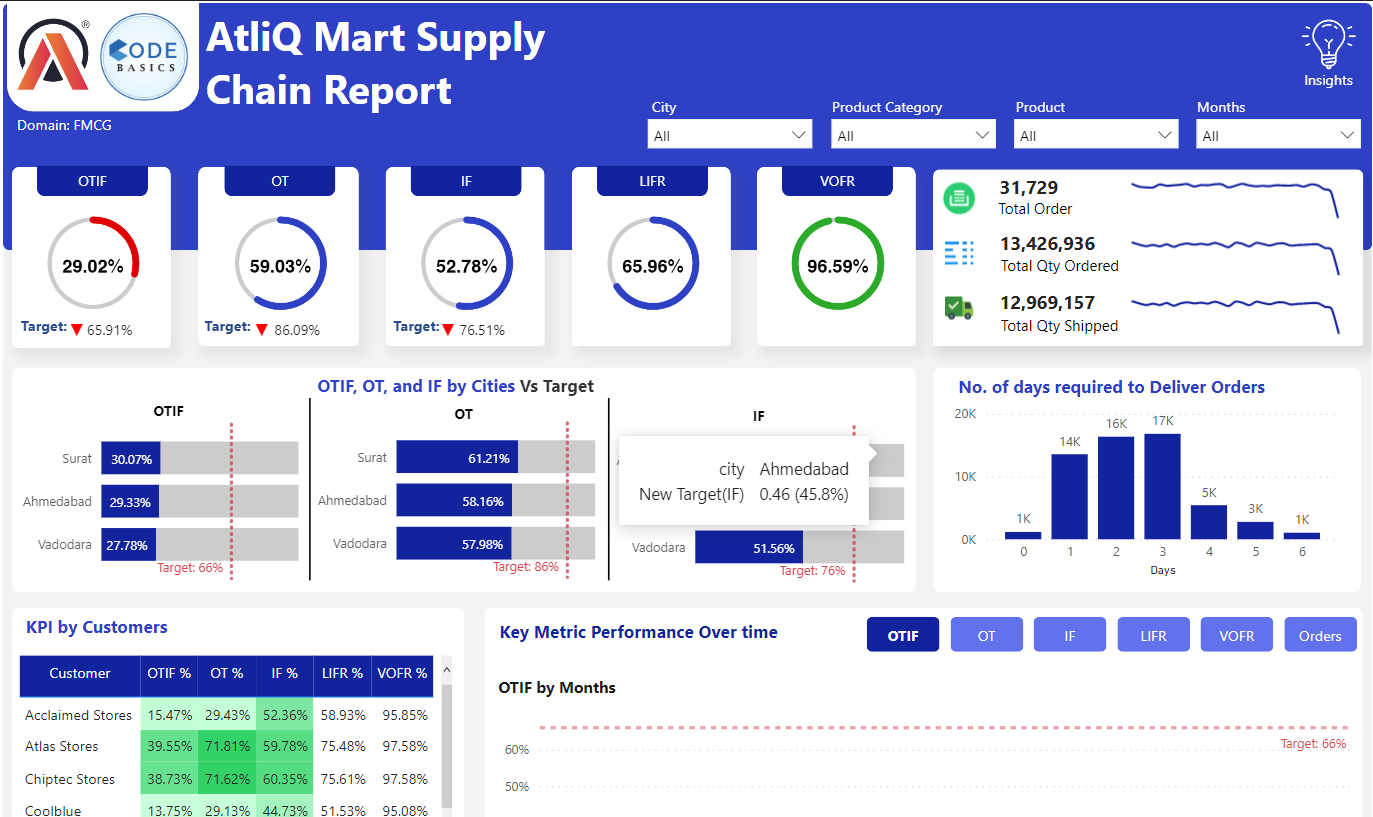

This screenshot's page, from the dashboard's own definition file:
{"tool":"powerbi","page":{"name":"Home","canvas":[1280,1728],"ordinal":0},"visuals":[{"type":"shape","box":[0,0,1280,231.4],"z":0},{"type":"group","id":"g1","title":"Group 8","box":[869.1,152.5,402,169.4],"z":0,"group":"g14"},{"type":"shape","box":[8.7,153.3,149.1,169.4],"z":0,"group":"g7"},{"type":"shape","box":[182.5,153.3,150.3,168.2],"z":0,"group":"g5"},{"type":"shape","box":[357.4,153.3,149.1,168.2],"z":0,"group":"g8"},{"type":"shape","box":[531.2,153.3,149.1,168.2],"z":0,"group":"g15"},{"type":"shape","box":[705,153.3,149.1,168.2],"z":0,"group":"g16"},{"type":"group","id":"g2","title":"Group 7","box":[869.1,156.1,402,165.8],"z":0,"group":"g1"},{"type":"shape","box":[869.1,156.1,402,165.8],"z":0,"group":"g2"},{"type":"multiRowCard","fields":{"Values":["Measures Table.Total Orders"]},"box":[925.8,156.4,174.7,34.6],"z":0,"group":"g3"},{"type":"multiRowCard","fields":{"Values":["Measures Table.Total Qty Ordered"]},"box":[925.9,209.1,184,35.8],"z":0,"group":"g4"},{"type":"multiRowCard","fields":{"Values":["Measures Table.Total Qty Shipped"]},"box":[925.9,263.1,188.6,40.6],"z":0,"group":"g6"},{"type":"card","fields":{"Values":["Measures Table.OTIF-Icon"]},"box":[50.3,283.7,37.9,47.7],"z":0,"group":"g11"},{"type":"card","fields":{"Values":["Measures Table.OT-Icon"]},"box":[223.3,283.7,37.9,47.7],"z":0,"group":"g12"},{"type":"card","fields":{"Values":["Measures Table.IF-Icon"]},"box":[397.4,283.7,37.9,47.7],"z":0,"group":"g13"},{"type":"hundredPercentStackedBarChart","fields":{"Y":["Measures Table.On Time In Full %(OTIF)","Measures Table.New Target(OTIF)"],"Category":["dim_customers.city"]},"box":[8.3,380.9,273.2,163.4],"z":0,"group":"g9"},{"type":"lineChart","fields":{"Y":["Measures Table.On Time In Full %(OTIF)"],"Category":["dim_date.date.Variation.Date Hierarchy.Month","dim_date.week_no","dim_date.date.Variation.Date Hierarchy.Day"]},"box":[464,663.4,801.7,228.6],"z":0,"group":"g10"},{"type":"shape","box":[885.1,919.8,384.1,242.2],"z":0,"group":"g17"},{"type":"shape","box":[885.1,1177.4,384.1,242.2],"z":0,"group":"g18"},{"type":"shape","box":[3.6,1438.7,602.4,244.5],"z":0,"group":"g19"},{"type":"shape","box":[32.3,152.4,103.7,28.9],"z":1000,"group":"g7"},{"type":"shape","box":[207.6,152.4,103.7,28.9],"z":1000,"group":"g5"},{"type":"shape","box":[380.9,152.4,103.7,28.9],"z":1000,"group":"g8"},{"type":"shape","box":[554.7,152.4,103.7,28.9],"z":1000,"group":"g15"},{"type":"shape","box":[728.5,152.4,103.7,28.9],"z":1000,"group":"g16"},{"type":"PBI_CV_25997FEB_F466_44FA_B562_AC4063283C4C","fields":{"measure":["Measures Table.Total Orders"],"axis":["dim_date.date.Variation.Date Hierarchy.Day"]},"box":[1037.3,152.5,232.6,59.6],"z":1000,"group":"g1"},{"type":"group","id":"g3","title":"Group 5","box":[925.1,156.4,175.4,56],"z":1000,"group":"g2"},{"type":"image","box":[870.6,162.9,46.5,40.6],"z":1000,"group":"g14"},{"type":"textbox","box":[925.1,179,160.8,33.4],"z":1000,"group":"g3"},{"type":"textbox","box":[927.4,231.8,182.5,34.6],"z":1000,"group":"g4"},{"type":"textbox","box":[927.4,287,188.6,29.8],"z":1000,"group":"g6"},{"type":"multiRowCard","fields":{"Values":["Measures Table.OnTimeInFull(OTIF)Target_AVG"]},"box":[74.2,290.9,95.4,42.9],"z":1000,"group":"g11"},{"type":"multiRowCard","fields":{"Values":["Measures Table.On Time Delivery Target_AVG"]},"box":[249.5,290.9,95.4,42.9],"z":1000,"group":"g12"},{"type":"multiRowCard","fields":{"Values":["Measures Table.In Full Delivery Target_AVG"]},"box":[422.5,290.9,95.4,42.9],"z":1000,"group":"g13"},{"type":"textbox","box":[93,367.3,125.3,33.4],"z":1000,"group":"g9"},{"type":"textbox","title":"OTIF Txt","box":[458.1,623.6,354.3,47.6],"z":1000,"group":"g10"},{"type":"shape","box":[8.4,917.4,852.9,502.2],"z":1000},{"type":"donutChart","fields":{"Y":["Measures Table.Total Qty Shipped"],"Category":["dim_products.category"]},"box":[891.1,944.8,373.4,210],"z":1000,"group":"g17"},{"type":"clusteredBarChart","fields":{"Category":["fact_order_lines.City required >3equal days to deliver a order"],"Y":["CountNonNull(fact_order_lines.City required >3equal days to deliver a order)"]},"box":[885.1,1214.4,377,205.2],"z":1000,"group":"g18"},{"type":"lineChart","fields":{"Category":["dim_date.date.Variation.Date Hierarchy.Month"],"Y":["Measures Table.Total Qty Ordered","Measures Table.Total Qty Shipped"]},"box":[12,1473.3,595.3,200.4],"z":1000,"group":"g19"},{"type":"textbox","box":[42.6,152.4,83.2,33.8],"z":2000,"group":"g7"},{"type":"textbox","box":[217.8,152.4,83.2,33.8],"z":2000,"group":"g5"},{"type":"textbox","box":[391.2,152.4,83.2,33.8],"z":2000,"group":"g8"},{"type":"textbox","box":[565,152.4,83.2,33.8],"z":2000,"group":"g15"},{"type":"textbox","box":[738.8,152.4,83.2,33.8],"z":2000,"group":"g16"},{"type":"PBI_CV_25997FEB_F466_44FA_B562_AC4063283C4C","fields":{"measure":["Measures Table.Total Qty Ordered"],"axis":["dim_date.date.Variation.Date Hierarchy.Day"]},"box":[1037.7,206.9,233,57.9],"z":2000,"group":"g1"},{"type":"group","id":"g4","title":"Group 5","box":[925.9,209.1,184,57.3],"z":2000,"group":"g2"},{"type":"image","box":[870.6,214.2,46.5,40.6],"z":2000,"group":"g14"},{"type":"shape","box":[869.6,340.9,399.6,210],"z":2000},{"type":"hundredPercentStackedBarChart","fields":{"Category":["dim_customers.city"],"Y":["Measures Table.On Time Delivery(OT%)","Measures Table.New Terget(OT)"]},"box":[283.9,380.4,274.4,163.4],"z":2000,"group":"g9"},{"type":"textbox","box":[891.1,917.4,373.4,34.6],"z":2000,"group":"g17"},{"type":"textbox","box":[893.5,1173.8,361.5,56.1],"z":2000,"group":"g18"},{"type":"textbox","box":[10.8,1440.1,373.4,34.6],"z":2000,"group":"g19"},{"type":"group","id":"g5","title":"Group 1","box":[182.5,152.4,150.3,169.4],"z":3000},{"type":"payPalKPIDonutChart55A431AB15A540ED924ACD72ED8D259F","fields":{"myvalue":["Measures Table.On Time In Full %(OTIF)"]},"box":[29.3,182.6,109.7,121.8],"z":3000,"group":"g7"},{"type":"payPalKPIDonutChart55A431AB15A540ED924ACD72ED8D259F","fields":{"myvalue":["Measures Table.On Time Delivery(OT%)"]},"box":[204.6,182.6,109.7,121.8],"z":3000,"group":"g5"},{"type":"payPalKPIDonutChart55A431AB15A540ED924ACD72ED8D259F","fields":{"myvalue":["Measures Table.In Full Delivery %(IF%)"]},"box":[377.9,182.6,109.7,121.8],"z":3000,"group":"g8"},{"type":"payPalKPIDonutChart55A431AB15A540ED924ACD72ED8D259F","fields":{"myvalue":["Measures Table.Line Fill Rate(LIFR%)"]},"box":[551.7,182.6,109.7,121.8],"z":3000,"group":"g15"},{"type":"payPalKPIDonutChart55A431AB15A540ED924ACD72ED8D259F","fields":{"myvalue":["Measures Table.Volume Fill Rate(VOFR %)"]},"box":[725.5,182.6,109.7,121.8],"z":3000,"group":"g16"},{"type":"PBI_CV_25997FEB_F466_44FA_B562_AC4063283C4C","fields":{"measure":["Measures Table.Total Qty Shipped"],"axis":["dim_date.date.Variation.Date Hierarchy.Day"]},"box":[1037.7,262.4,233,57.9],"z":3000,"group":"g1"},{"type":"group","id":"g6","title":"Group 5","box":[925.9,263.1,190.2,53.7],"z":3000,"group":"g2"},{"type":"image","box":[870.6,265.5,46.5,40.6],"z":3000,"group":"g14"},{"type":"textbox","box":[368.6,369.7,125.3,33.4],"z":3000,"group":"g9"},{"type":"group","id":"g7","title":"Group 1","box":[8.7,152.4,149.1,173],"z":4000},{"type":"textbox","box":[12.3,288.4,124.1,37],"z":4000,"group":"g7"},{"type":"textbox","box":[183.7,288.4,122.9,33.4],"z":4000,"group":"g5"},{"type":"textbox","box":[359.8,288.4,124.1,33.4],"z":4000,"group":"g8"},{"type":"hundredPercentStackedBarChart","fields":{"Category":["dim_customers.city"],"Y":["Measures Table.In Full Delivery %(IF%)","Measures Table.New Target(IF)"]},"box":[563.8,383.2,283.9,163.4],"z":4000,"group":"g9"},{"type":"group","id":"g8","title":"Group 1","box":[357.4,152.4,149.1,169.4],"z":5000},{"type":"textbox","box":[644.1,372.1,125.3,33.4],"z":5000,"group":"g9"},{"type":"shape","box":[8.4,340.9,845.8,210],"z":6000},{"type":"textbox","box":[16.7,340.9,813.6,39.4],"z":7000},{"type":"group","id":"g9","title":"Group 3","box":[8.3,367.3,839.4,179.4],"z":8000},{"type":"shape","box":[8.4,565.2,423,335.2],"z":9000},{"type":"tableEx","fields":{"Values":["dim_customers.customer_name","Measures Table.On Time In Full %(OTIF)","Measures Table.On Time Delivery(OT%)","Measures Table.In Full Delivery %(IF%)","Measures Table.Line Fill Rate(LIFR%)","Measures Table.Volume Fill Rate(VOFR %)"]},"box":[9.5,605.7,415.1,288.7],"z":10000},{"type":"textbox","box":[887.5,342.3,349.5,47.7],"z":11000},{"type":"textbox","box":[16.7,566.4,349.5,39.4],"z":12000},{"type":"shape","box":[449.7,565.2,821.9,335.2],"z":13000},{"type":"group","id":"g10","title":"OTIF","box":[458.1,623.6,807.6,268.4],"z":14000},{"type":"textbox","box":[459.3,571.2,348.3,42.9],"z":20000},{"type":"bookmarkNavigator","box":[807.6,573.5,458.1,33.4],"z":21000},{"type":"group","id":"g11","title":"Group 1","box":[50.3,283.7,119.3,50.1],"z":22000},{"type":"group","id":"g12","title":"Group 1","box":[223.3,283.7,121.7,50.1],"z":23000},{"type":"group","id":"g13","title":"Group 1","box":[397.4,283.7,120.5,50.1],"z":24000},{"type":"clusteredColumnChart","fields":{"Category":["fact_order_lines.Days required to deliver a product"],"Y":["CountNonNull(fact_order_lines.order_id)"]},"box":[885.1,366,369.8,175.4],"z":25000},{"type":"tableEx","fields":{"Values":["dim_products.category","dim_products.product_name","Measures Table.Line Fill Rate(LIFR%)","Measures Table.Volume Fill Rate(VOFR %)","SparklineData(Measures Table.Line Fill Rate(LIFR%)_[dim_date.date.Variation.Date Hierarchy.Month])","SparklineData(Measures Table.Volume Fill Rate(VOFR %)_[dim_date.date.Variation.Date Hierarchy.Month])","Measures Table.Total Qty Ordered","Measures Table.Total Qty Shipped","Measures Table.Order_Shipped_Difference","Measures Table.Avg Days required to deliver a product"]},"box":[11.9,960.3,842.2,449.7],"z":26000},{"type":"textbox","box":[16.7,924.3,349.5,39.4],"z":27000},{"type":"textbox","box":[184.9,0,409.2,115.7],"z":28000},{"type":"shape","box":[3.6,0,180.1,101.4],"z":29000},{"type":"image","box":[7.2,8.4,81.1,78.7],"z":30000},{"type":"image","box":[83.5,0,97.8,101.4],"z":31000},{"type":"textbox","box":[8.4,99,294.7,35.8],"z":32000},{"type":"group","id":"g14","title":"Group 2","box":[869.1,152.5,402,169.4],"z":33000},{"type":"group","id":"g15","title":"Group 1","box":[531.2,152.4,149.1,169.1],"z":34000},{"type":"group","id":"g16","title":"Group 1","box":[705,152.4,149.1,169.1],"z":35000},{"type":"shape","box":[279.1,369.8,15.5,170.6],"z":36000},{"type":"shape","box":[554.7,369.8,22.7,170.6],"z":37000},{"type":"slicer","fields":{"Values":["Date Table.Month"]},"box":[1105.8,97.6,174.2,41.8],"z":38000},{"type":"slicer","fields":{"Values":["dim_products.product_name"]},"box":[934.8,97.6,174.2,41.8],"z":39000},{"type":"slicer","fields":{"Values":["dim_products.category"]},"box":[763.9,97.6,174.2,41.8],"z":40000},{"type":"slicer","fields":{"Values":["dim_customers.city"]},"box":[592.9,97.6,174.2,41.8],"z":41000},{"type":"textbox","box":[601.2,82.5,162.2,35.8],"z":42000},{"type":"textbox","box":[770.6,82.5,162.2,35.8],"z":43000},{"type":"textbox","box":[942.4,82.5,162.2,35.8],"z":44000},{"type":"textbox","box":[1111.8,82.5,162.2,35.8],"z":45000},{"type":"group","id":"g17","title":"Group 4","box":[885.1,917.4,384.1,244.5],"z":46000},{"type":"group","id":"g18","title":"Group 6","box":[885.1,1173.8,384.1,245.7],"z":47000},{"type":"shape","box":[618.9,1439.9,310.2,243.4],"z":48000},{"type":"shape","box":[942.4,1438.7,326.9,243.4],"z":49000},{"type":"clusteredBarChart","fields":{"Category":["dim_customers.city"],"Y":["Measures Table.Total Qty Ordered","Measures Table.Total Qty Shipped"]},"box":[943.6,1474.4,323.3,211.1],"z":50000},{"type":"textbox","box":[623.7,1439.9,194.4,34.6],"z":51000},{"type":"clusteredColumnChart","fields":{"Category":["dim_customers.city"],"Y":["Measures Table.Total Orders"]},"box":[623.7,1457.7,305.4,224.3],"z":52000},{"type":"textbox","box":[946,1438.7,281.5,34.6],"z":53000},{"type":"group","id":"g19","title":"Qty by Months","box":[3.6,1438.7,603.6,244.5],"z":54000},{"type":"textbox","box":[0,1697,1280,31],"z":55000},{"type":"image","box":[1209.6,3.4,62,69.2],"z":56000},{"type":"textbox","box":[1195.3,57.1,71.6,35.8],"z":57000}]}

Visuals, with their boxes on the page's 1280x1728 design canvas (x1, y1, x2, y2). These are canvas units, not pixel positions in the 1373x817 screenshot, which may show the page scaled, cropped or inside an application window:
shape: x1=0 y1=0 x2=1280 y2=231
"Group 8" group: x1=869 y1=152 x2=1271 y2=322
shape: x1=9 y1=153 x2=158 y2=323
shape: x1=182 y1=153 x2=333 y2=322
shape: x1=357 y1=153 x2=506 y2=322
shape: x1=531 y1=153 x2=680 y2=322
shape: x1=705 y1=153 x2=854 y2=322
"Group 7" group: x1=869 y1=156 x2=1271 y2=322
shape: x1=869 y1=156 x2=1271 y2=322
multiRowCard - Measures Table.Total Orders: x1=926 y1=156 x2=1100 y2=191
multiRowCard - Measures Table.Total Qty Ordered: x1=926 y1=209 x2=1110 y2=245
multiRowCard - Measures Table.Total Qty Shipped: x1=926 y1=263 x2=1114 y2=304
card - Measures Table.OTIF-Icon: x1=50 y1=284 x2=88 y2=331
card - Measures Table.OT-Icon: x1=223 y1=284 x2=261 y2=331
card - Measures Table.IF-Icon: x1=397 y1=284 x2=435 y2=331
hundredPercentStackedBarChart - Measures Table.On Time In Full %(OTIF) x Measures Table.New Target(OTIF): x1=8 y1=381 x2=282 y2=544
lineChart - Measures Table.On Time In Full %(OTIF) x dim_date.date.Variation.Date Hierarchy.Month: x1=464 y1=663 x2=1266 y2=892
shape: x1=885 y1=920 x2=1269 y2=1162
shape: x1=885 y1=1177 x2=1269 y2=1420
shape: x1=4 y1=1439 x2=606 y2=1683
shape: x1=32 y1=152 x2=136 y2=181
shape: x1=208 y1=152 x2=311 y2=181
shape: x1=381 y1=152 x2=485 y2=181
shape: x1=555 y1=152 x2=658 y2=181
shape: x1=728 y1=152 x2=832 y2=181
PBI_CV_25997FEB_F466_44FA_B562_AC4063283C4C - Measures Table.Total Orders x dim_date.date.Variation.Date Hierarchy.Day: x1=1037 y1=152 x2=1270 y2=212
"Group 5" group: x1=925 y1=156 x2=1100 y2=212
image: x1=871 y1=163 x2=917 y2=204
textbox: x1=925 y1=179 x2=1086 y2=212
textbox: x1=927 y1=232 x2=1110 y2=266
textbox: x1=927 y1=287 x2=1116 y2=317
multiRowCard - Measures Table.OnTimeInFull(OTIF)Target_AVG: x1=74 y1=291 x2=170 y2=334
multiRowCard - Measures Table.On Time Delivery Target_AVG: x1=250 y1=291 x2=345 y2=334
multiRowCard - Measures Table.In Full Delivery Target_AVG: x1=422 y1=291 x2=518 y2=334
textbox: x1=93 y1=367 x2=218 y2=401
"OTIF Txt" textbox: x1=458 y1=624 x2=812 y2=671
shape: x1=8 y1=917 x2=861 y2=1420
donutChart - Measures Table.Total Qty Shipped x dim_products.category: x1=891 y1=945 x2=1264 y2=1155
clusteredBarChart - fact_order_lines.City required >3equal days to deliver a order x CountNonNull(fact_order_lines.City required >3equal days to deliver a order): x1=885 y1=1214 x2=1262 y2=1420
lineChart - dim_date.date.Variation.Date Hierarchy.Month x Measures Table.Total Qty Ordered: x1=12 y1=1473 x2=607 y2=1674
textbox: x1=43 y1=152 x2=126 y2=186
textbox: x1=218 y1=152 x2=301 y2=186
textbox: x1=391 y1=152 x2=474 y2=186
textbox: x1=565 y1=152 x2=648 y2=186
textbox: x1=739 y1=152 x2=822 y2=186
PBI_CV_25997FEB_F466_44FA_B562_AC4063283C4C - Measures Table.Total Qty Ordered x dim_date.date.Variation.Date Hierarchy.Day: x1=1038 y1=207 x2=1271 y2=265
"Group 5" group: x1=926 y1=209 x2=1110 y2=266
image: x1=871 y1=214 x2=917 y2=255
shape: x1=870 y1=341 x2=1269 y2=551
hundredPercentStackedBarChart - dim_customers.city x Measures Table.On Time Delivery(OT%): x1=284 y1=380 x2=558 y2=544
textbox: x1=891 y1=917 x2=1264 y2=952
textbox: x1=894 y1=1174 x2=1255 y2=1230
textbox: x1=11 y1=1440 x2=384 y2=1475
"Group 1" group: x1=182 y1=152 x2=333 y2=322
payPalKPIDonutChart55A431AB15A540ED924ACD72ED8D259F - Measures Table.On Time In Full %(OTIF): x1=29 y1=183 x2=139 y2=304
payPalKPIDonutChart55A431AB15A540ED924ACD72ED8D259F - Measures Table.On Time Delivery(OT%): x1=205 y1=183 x2=314 y2=304
payPalKPIDonutChart55A431AB15A540ED924ACD72ED8D259F - Measures Table.In Full Delivery %(IF%): x1=378 y1=183 x2=488 y2=304
payPalKPIDonutChart55A431AB15A540ED924ACD72ED8D259F - Measures Table.Line Fill Rate(LIFR%): x1=552 y1=183 x2=661 y2=304
payPalKPIDonutChart55A431AB15A540ED924ACD72ED8D259F - Measures Table.Volume Fill Rate(VOFR %): x1=726 y1=183 x2=835 y2=304
PBI_CV_25997FEB_F466_44FA_B562_AC4063283C4C - Measures Table.Total Qty Shipped x dim_date.date.Variation.Date Hierarchy.Day: x1=1038 y1=262 x2=1271 y2=320
"Group 5" group: x1=926 y1=263 x2=1116 y2=317
image: x1=871 y1=266 x2=917 y2=306
textbox: x1=369 y1=370 x2=494 y2=403
"Group 1" group: x1=9 y1=152 x2=158 y2=325
textbox: x1=12 y1=288 x2=136 y2=325
textbox: x1=184 y1=288 x2=307 y2=322
textbox: x1=360 y1=288 x2=484 y2=322
hundredPercentStackedBarChart - dim_customers.city x Measures Table.In Full Delivery %(IF%): x1=564 y1=383 x2=848 y2=547
"Group 1" group: x1=357 y1=152 x2=506 y2=322
textbox: x1=644 y1=372 x2=769 y2=406
shape: x1=8 y1=341 x2=854 y2=551
textbox: x1=17 y1=341 x2=830 y2=380
"Group 3" group: x1=8 y1=367 x2=848 y2=547
shape: x1=8 y1=565 x2=431 y2=900
tableEx - dim_customers.customer_name x Measures Table.On Time In Full %(OTIF): x1=10 y1=606 x2=425 y2=894
textbox: x1=888 y1=342 x2=1237 y2=390
textbox: x1=17 y1=566 x2=366 y2=606
shape: x1=450 y1=565 x2=1272 y2=900
"OTIF" group: x1=458 y1=624 x2=1266 y2=892
textbox: x1=459 y1=571 x2=808 y2=614
bookmarkNavigator: x1=808 y1=574 x2=1266 y2=607
"Group 1" group: x1=50 y1=284 x2=170 y2=334
"Group 1" group: x1=223 y1=284 x2=345 y2=334
"Group 1" group: x1=397 y1=284 x2=518 y2=334
clusteredColumnChart - fact_order_lines.Days required to deliver a product x CountNonNull(fact_order_lines.order_id): x1=885 y1=366 x2=1255 y2=541
tableEx - dim_products.category x dim_products.product_name: x1=12 y1=960 x2=854 y2=1410
textbox: x1=17 y1=924 x2=366 y2=964
textbox: x1=185 y1=0 x2=594 y2=116
shape: x1=4 y1=0 x2=184 y2=101
image: x1=7 y1=8 x2=88 y2=87
image: x1=84 y1=0 x2=181 y2=101
textbox: x1=8 y1=99 x2=303 y2=135
"Group 2" group: x1=869 y1=152 x2=1271 y2=322
"Group 1" group: x1=531 y1=152 x2=680 y2=322
"Group 1" group: x1=705 y1=152 x2=854 y2=322
shape: x1=279 y1=370 x2=295 y2=540
shape: x1=555 y1=370 x2=577 y2=540
slicer - Date Table.Month: x1=1106 y1=98 x2=1280 y2=139
slicer - dim_products.product_name: x1=935 y1=98 x2=1109 y2=139
slicer - dim_products.category: x1=764 y1=98 x2=938 y2=139
slicer - dim_customers.city: x1=593 y1=98 x2=767 y2=139
textbox: x1=601 y1=82 x2=763 y2=118
textbox: x1=771 y1=82 x2=933 y2=118
textbox: x1=942 y1=82 x2=1105 y2=118
textbox: x1=1112 y1=82 x2=1274 y2=118
"Group 4" group: x1=885 y1=917 x2=1269 y2=1162
"Group 6" group: x1=885 y1=1174 x2=1269 y2=1420
shape: x1=619 y1=1440 x2=929 y2=1683
shape: x1=942 y1=1439 x2=1269 y2=1682
clusteredBarChart - dim_customers.city x Measures Table.Total Qty Ordered: x1=944 y1=1474 x2=1267 y2=1686
textbox: x1=624 y1=1440 x2=818 y2=1474
clusteredColumnChart - dim_customers.city x Measures Table.Total Orders: x1=624 y1=1458 x2=929 y2=1682
textbox: x1=946 y1=1439 x2=1228 y2=1473
"Qty by Months" group: x1=4 y1=1439 x2=607 y2=1683
textbox: x1=0 y1=1697 x2=1280 y2=1728
image: x1=1210 y1=3 x2=1272 y2=73
textbox: x1=1195 y1=57 x2=1267 y2=93
